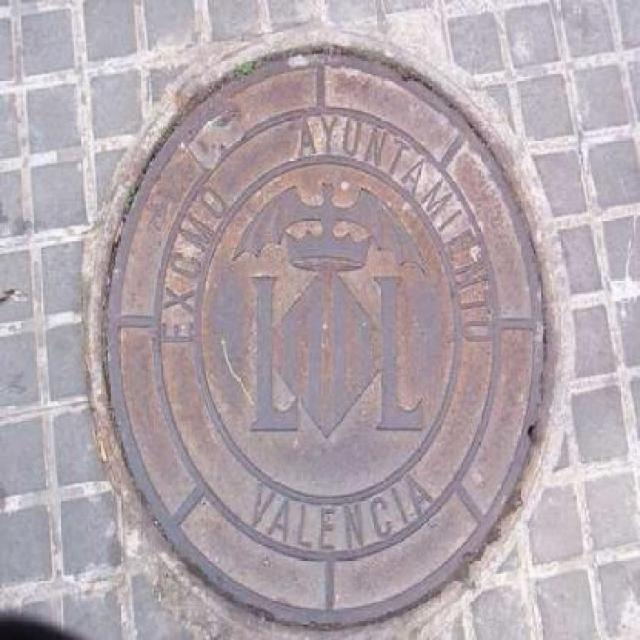Manhole: (74, 21, 576, 634)
